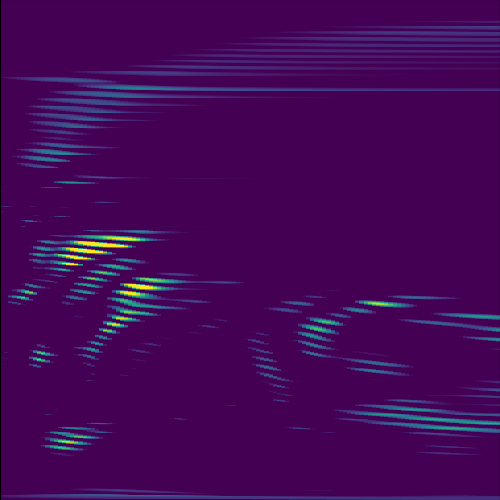semblance: (52, 233, 153, 268), (110, 276, 182, 307)
